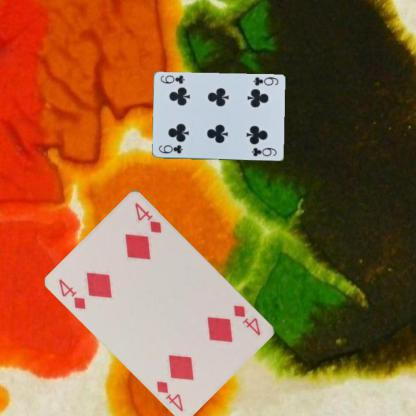4d: (230, 302, 262, 337), (57, 276, 89, 311)
6c: (156, 143, 184, 155), (251, 75, 279, 87)
